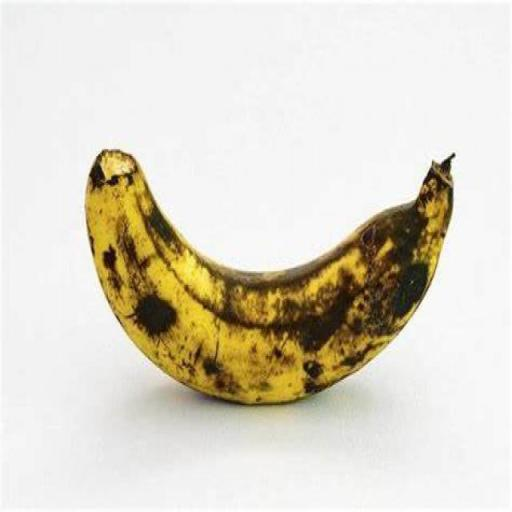fruit: (86, 151, 452, 403)
